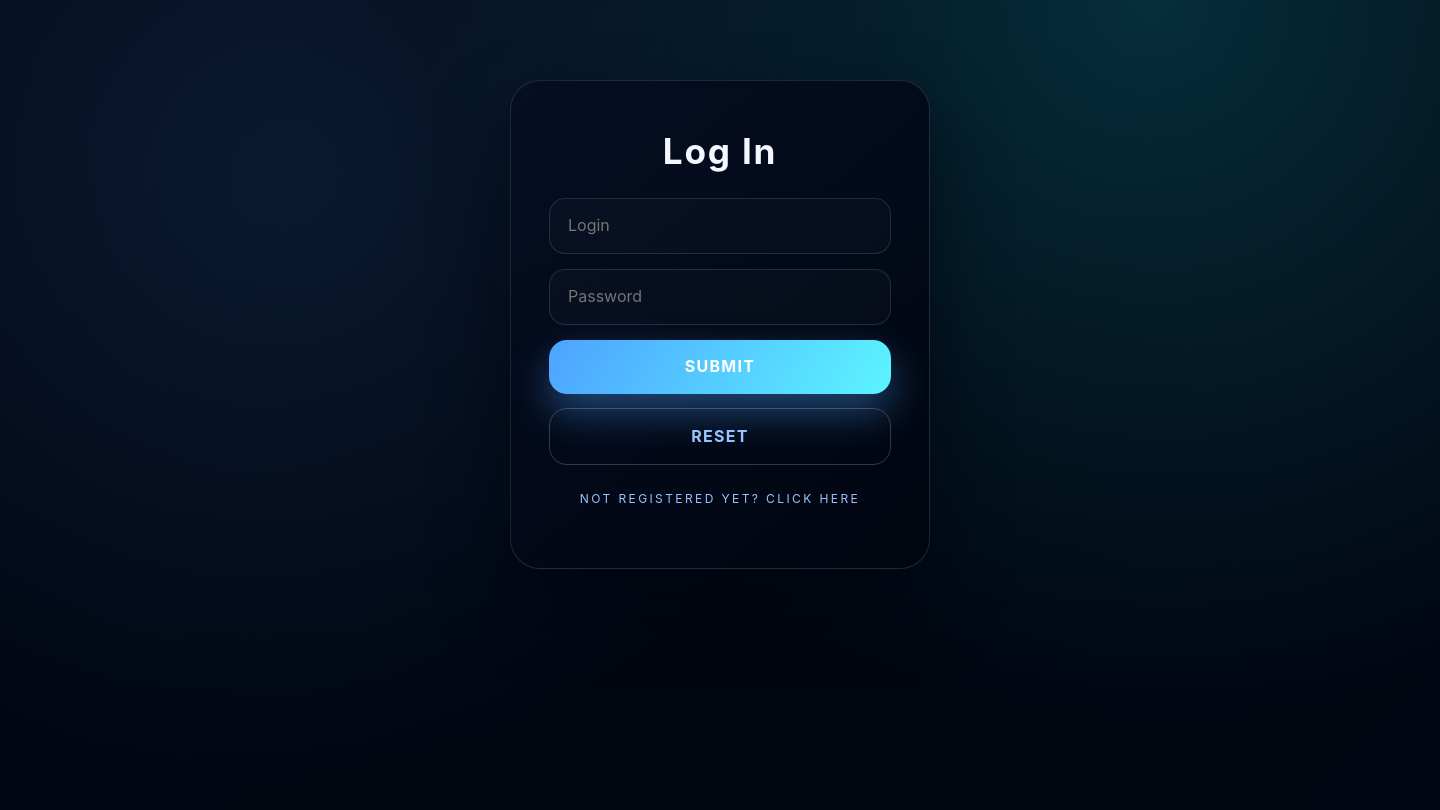
Test: Login Component › shows error on login failure
This screenshot has width=1440, height=810.
Type "testuser" into the field with placeholder "Login".
click(720, 226); type("testuser")  # box [549,198,891,254]
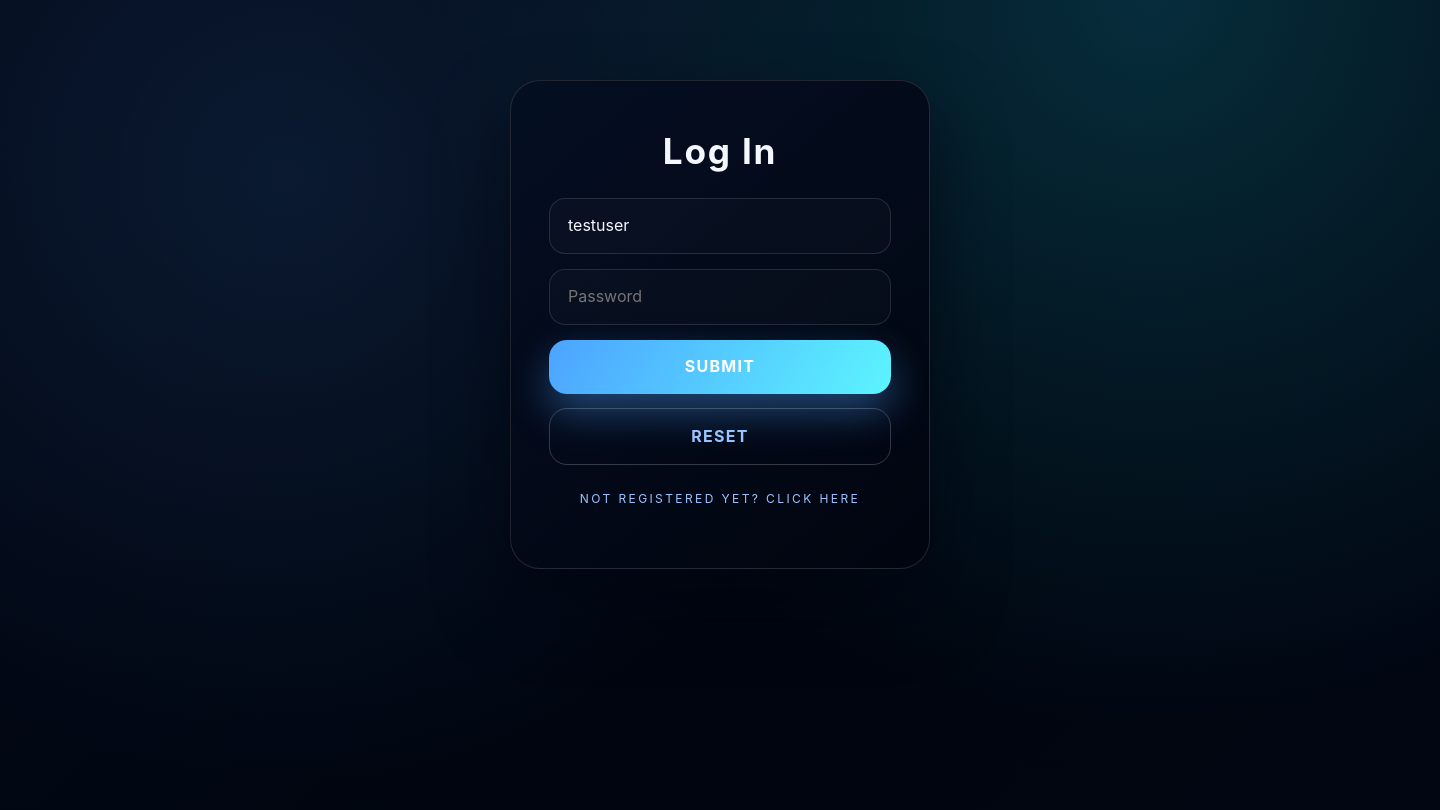
Type "wrongpass" into the password field with placeholder "Password".
click(720, 297); type("wrongpass")  # box [549,269,891,325]
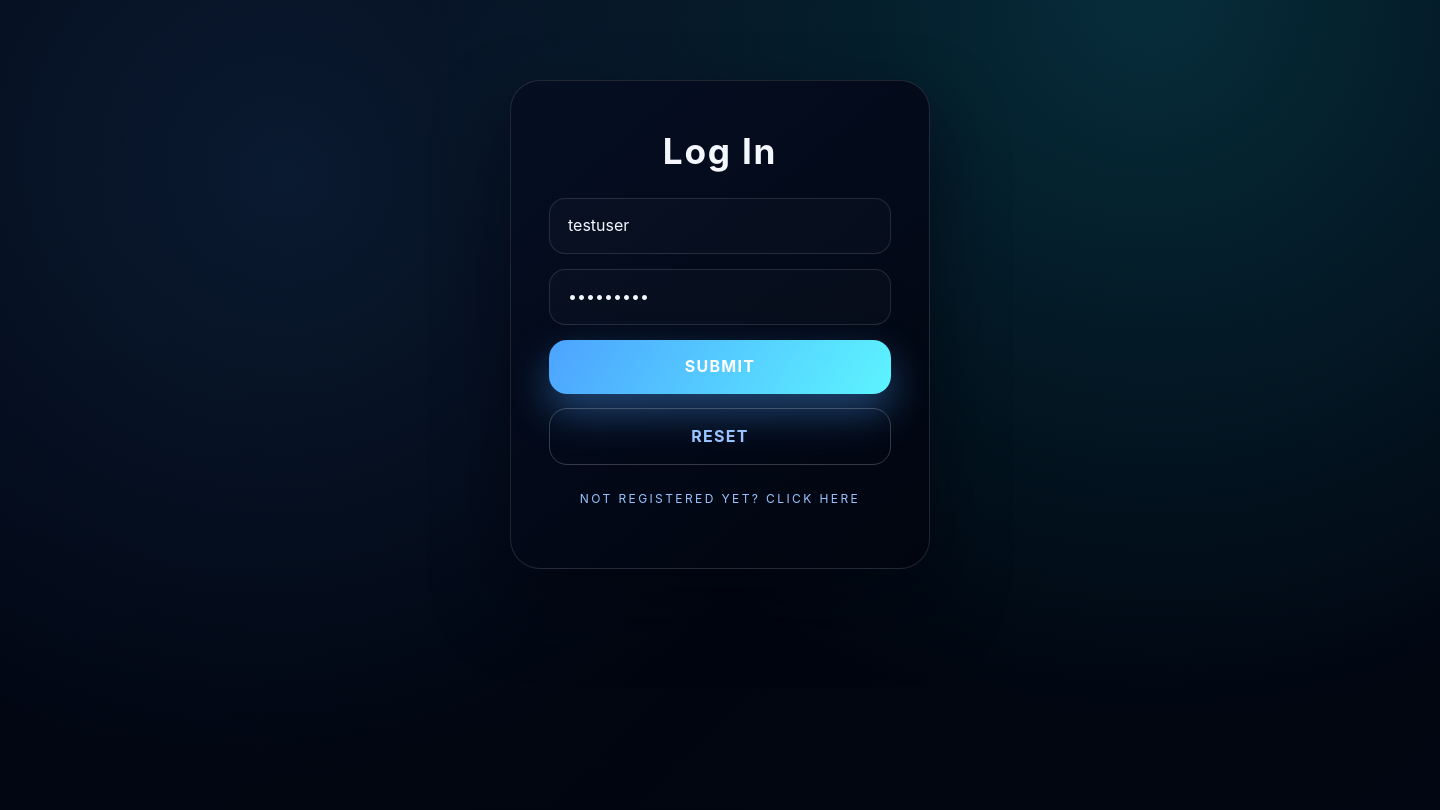
Click the button "Submit".
click(720, 367)  # box [549,340,891,394]
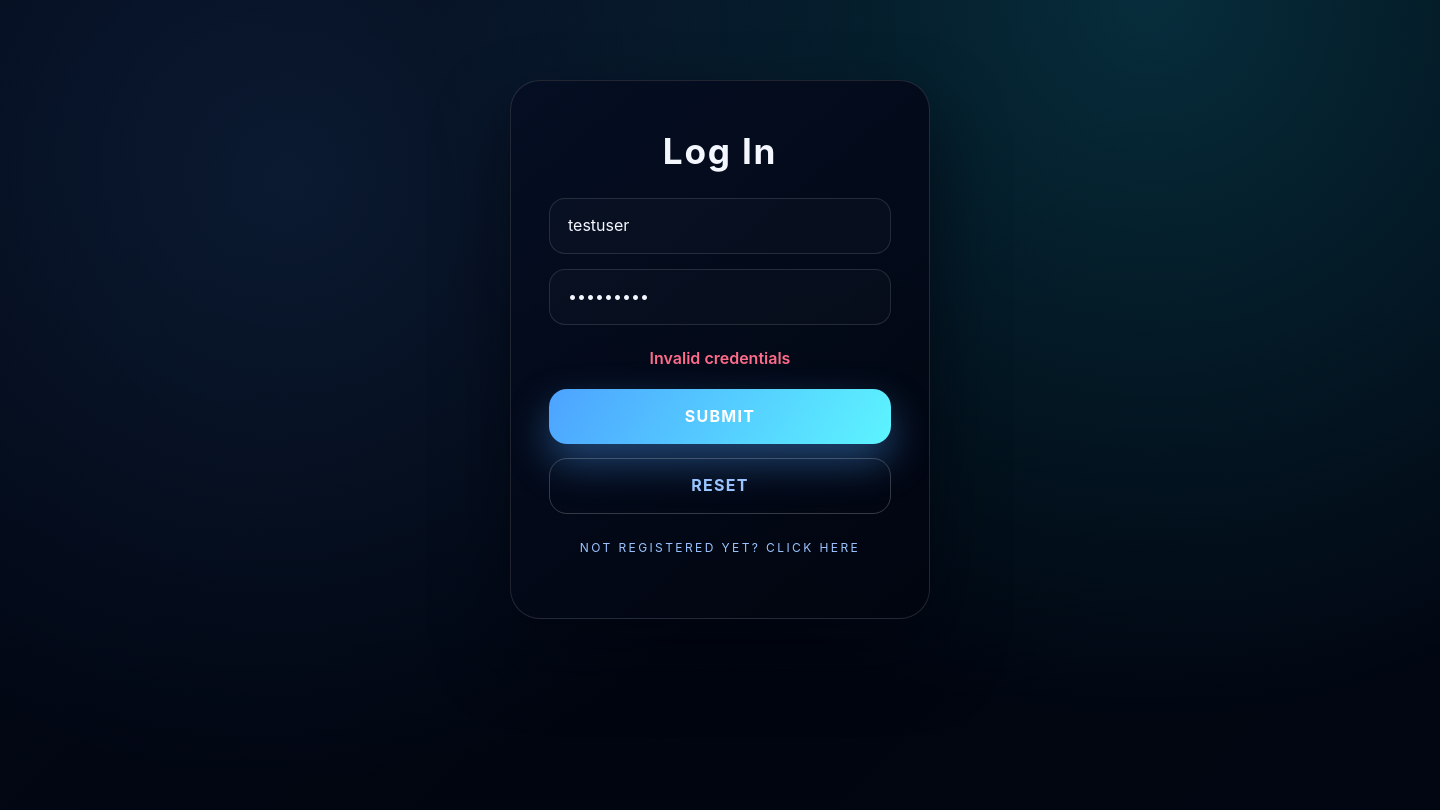
expect the text "Invalid credentials" is shown: met, box [650,348,790,368]
